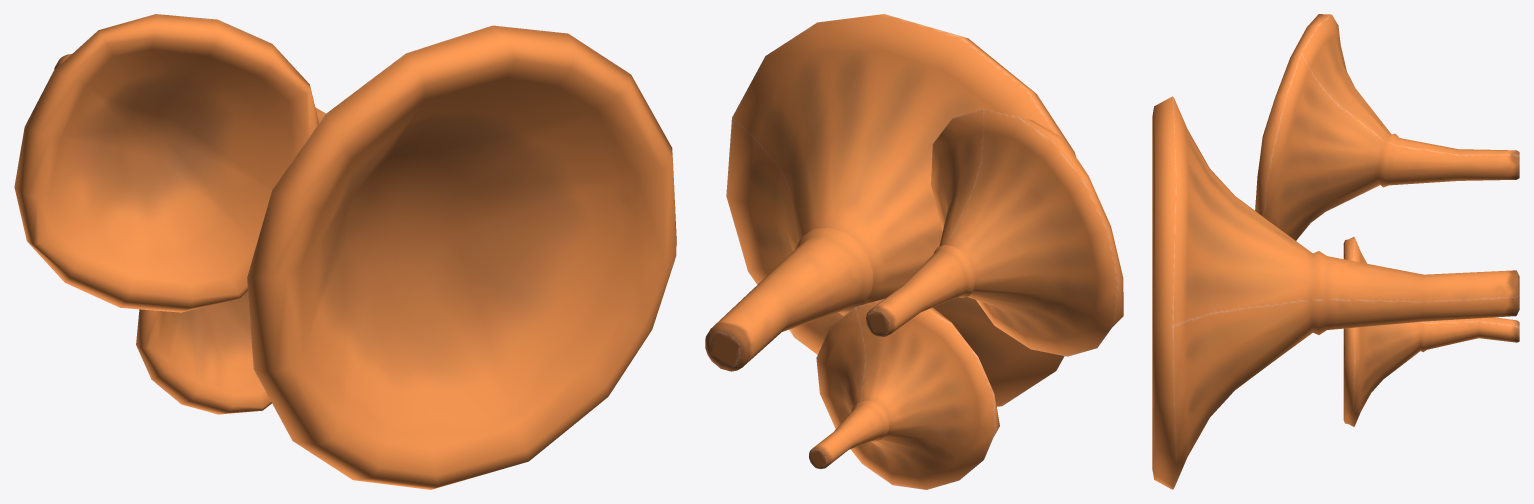
File: mushroom1.glb
3 views of the same model, side by side, from view 1: azimuth 30°, elevation 25°; view 2: azimuth 150°, elevation 25°; view 3: azimuth 270°, elevation 25° (orthographic). The views are drawn at different scales.
Parts seen in each view (by area): view 1: 4.001_Cube.001; view 2: 4.001_Cube.001; view 3: 4.001_Cube.001.
Boxes of the visible parts, bbox=[...] form: 4.001_Cube.001: bbox=[14, 14, 676, 489]; 4.001_Cube.001: bbox=[705, 14, 1123, 489]; 4.001_Cube.001: bbox=[1152, 14, 1519, 489].
Size of the model in its own units: 1.75 by 1.36 by 1.25.
1 material, 1 textured.
